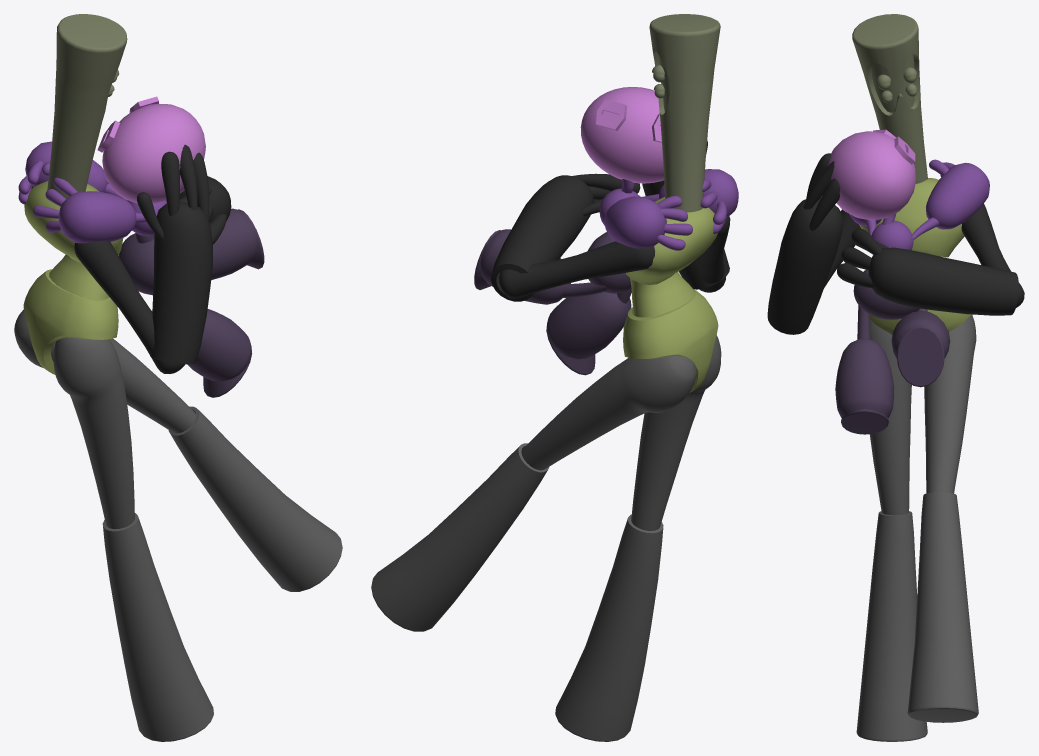
The model's file is Florence_Pose003.fbx.
3 views of the same model, side by side, from view 1: azimuth 30°, elevation 25°; view 2: azimuth 150°, elevation 25°; view 3: azimuth 270°, elevation 25° (orthographic). The views are drawn at different scales.
Parts seen in each view (by area): view 1: Florence_and_Greuber1:R_Foot, Florence_and_Greuber1:L_Foot, Florence_and_Greuber1:Head, Florence_and_Greuber1:R_Thigh, Florence_and_Greuber1:R_Hand, Florence_and_Greuber1:GooberRigged:Head, Florence_and_Greuber1:Pelvis, Florence_and_Greuber1:L_Thigh, Florence_and_Greuber1:R_Shoulder, Florence_and_Greuber1:GooberRigged:L_Foot, Florence_and_Greuber1:GooberRigged:L_Hand, Florence_and_Greuber1:GooberRigged:R_Foot (+9 smaller); view 2: Florence_and_Greuber1:R_Foot, Florence_and_Greuber1:L_Foot, Florence_and_Greuber1:Head, Florence_and_Greuber1:L_Thigh, Florence_and_Greuber1:GooberRigged:Head, Florence_and_Greuber1:L_Hand, Florence_and_Greuber1:R_Thigh, Florence_and_Greuber1:Pelvis, Florence_and_Greuber1:GooberRigged:L_Foot, Florence_and_Greuber1:L_Shoulder, Florence_and_Greuber1:Chest, Florence_and_Greuber1:GooberRigged:R_Hand (+7 smaller); view 3: Florence_and_Greuber1:L_Foot, Florence_and_Greuber1:R_Foot, Florence_and_Greuber1:L_Hand, Florence_and_Greuber1:Head, Florence_and_Greuber1:R_Hand, Florence_and_Greuber1:GooberRigged:Head, Florence_and_Greuber1:L_Thigh, Florence_and_Greuber1:GooberRigged:L_Foot, Florence_and_Greuber1:R_Thigh, Florence_and_Greuber1:GooberRigged:R_Foot, Florence_and_Greuber1:GooberRigged:R_Hand, Florence_and_Greuber1:Chest (+10 smaller).
Boxes of the visible parts, <box> form: Florence_and_Greuber1:R_Foot: <box>102,513,213,741</box>; Florence_and_Greuber1:L_Foot: <box>168,406,342,591</box>; Florence_and_Greuber1:Head: <box>47,14,127,198</box>; Florence_and_Greuber1:R_Thigh: <box>53,337,134,529</box>; Florence_and_Greuber1:R_Hand: <box>150,202,212,364</box>; Florence_and_Greuber1:GooberRigged:Head: <box>97,96,205,203</box>; Florence_and_Greuber1:Pelvis: <box>23,269,118,374</box>; Florence_and_Greuber1:L_Thigh: <box>14,309,196,433</box>; Florence_and_Greuber1:R_Shoulder: <box>74,240,184,373</box>; Florence_and_Greuber1:GooberRigged:L_Foot: <box>187,309,252,397</box>; Florence_and_Greuber1:GooberRigged:L_Hand: <box>58,191,136,243</box>; Florence_and_Greuber1:GooberRigged:R_Foot: <box>211,208,264,279</box>; Florence_and_Greuber1:R_Foot: <box>555,514,663,741</box>; Florence_and_Greuber1:L_Foot: <box>371,443,549,631</box>; Florence_and_Greuber1:Head: <box>649,14,720,212</box>; Florence_and_Greuber1:L_Thigh: <box>521,356,696,470</box>; Florence_and_Greuber1:GooberRigged:Head: <box>580,87,664,183</box>; Florence_and_Greuber1:L_Hand: <box>491,175,593,301</box>; Florence_and_Greuber1:R_Thigh: <box>631,335,721,530</box>; Florence_and_Greuber1:Pelvis: <box>623,289,718,392</box>; Florence_and_Greuber1:GooberRigged:L_Foot: <box>546,292,631,375</box>; Florence_and_Greuber1:L_Shoulder: <box>499,241,655,298</box>; Florence_and_Greuber1:Chest: <box>625,197,717,284</box>; Florence_and_Greuber1:GooberRigged:R_Hand: <box>604,196,666,248</box>; Florence_and_Greuber1:L_Foot: <box>907,492,978,722</box>; Florence_and_Greuber1:R_Foot: <box>856,511,927,741</box>; Florence_and_Greuber1:L_Hand: <box>868,247,1018,315</box>; Florence_and_Greuber1:Head: <box>852,14,927,183</box>; Florence_and_Greuber1:R_Hand: <box>767,197,842,334</box>; Florence_and_Greuber1:GooberRigged:Head: <box>828,129,916,220</box>; Florence_and_Greuber1:L_Thigh: <box>924,314,976,493</box>; Florence_and_Greuber1:GooberRigged:L_Foot: <box>835,338,894,434</box>; Florence_and_Greuber1:R_Thigh: <box>869,319,911,515</box>; Florence_and_Greuber1:GooberRigged:R_Foot: <box>891,311,950,387</box>; Florence_and_Greuber1:GooberRigged:R_Hand: <box>926,162,989,229</box>; Florence_and_Greuber1:Chest: <box>859,178,964,257</box>.
Size of the model in its own units: 5.45 by 11.69 by 4.02.
